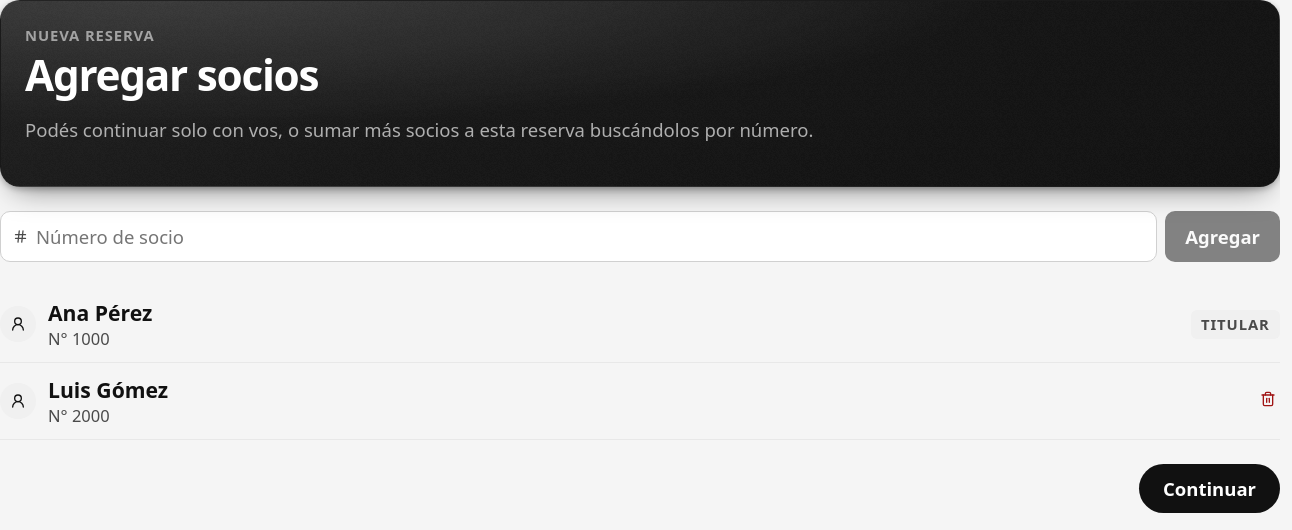
Test: AgregarSociosStep › sin cuposDisponibles no limita la cantidad de socios agregables
Type "3000" into the field with placeholder "Número de socio" at [590, 237], box x1=36 y1=212 x2=1144 y2=261
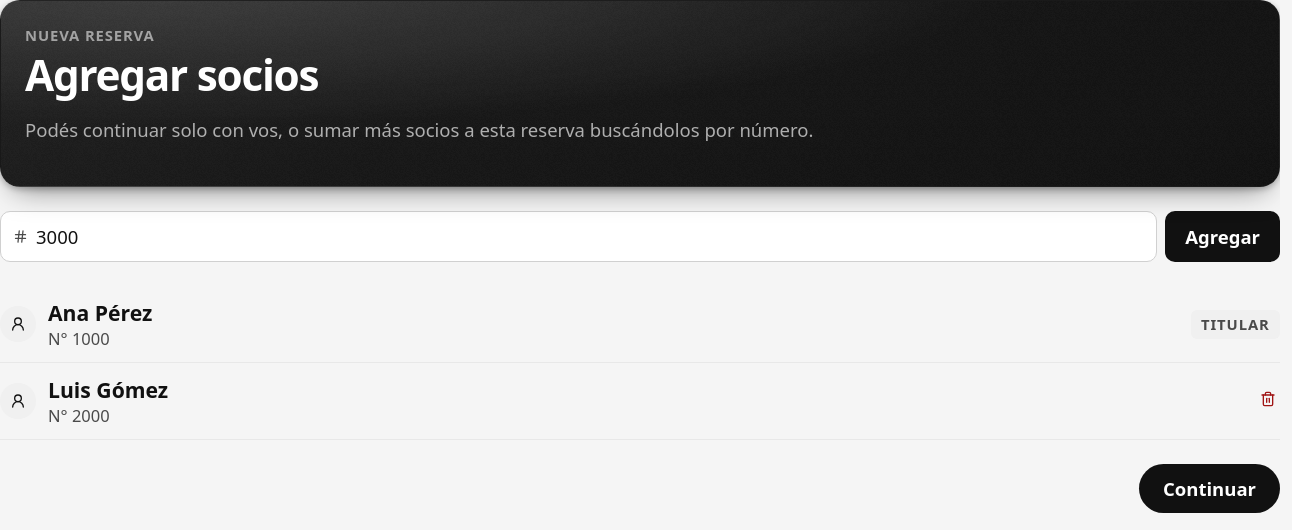
Expected: the button "Agregar" is enabled, x1=1165 y1=211 x2=1280 y2=262
